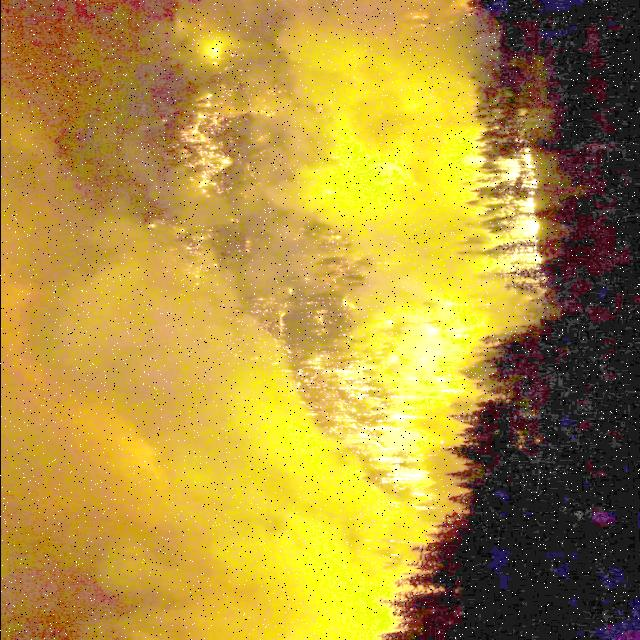api: (292, 288, 491, 508), (462, 136, 552, 280)
asap: (1, 152, 458, 640), (243, 1, 487, 296)
